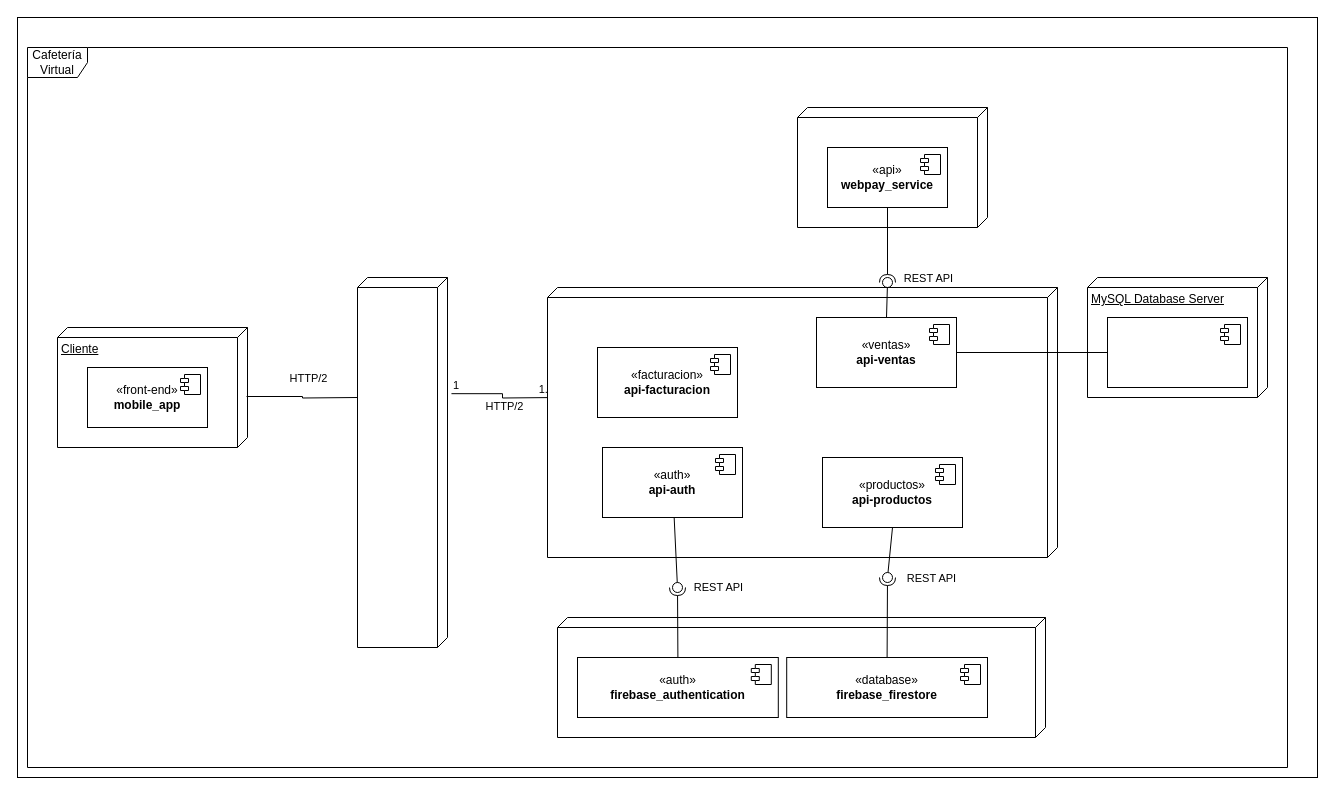
Image size: 1335x795. Some labels were removed from this diagram. The box of each missing label's shape, as (x1, y1, x2, y2) in pixels:
API_GATEWAY: (356, 276, 448, 648)
Cloud Functions: (546, 286, 1058, 558)
Firebase Server: (556, 616, 1046, 738)
Transbank Server: (796, 106, 988, 228)
«ventas» mysql-database: (1106, 316, 1248, 388)
